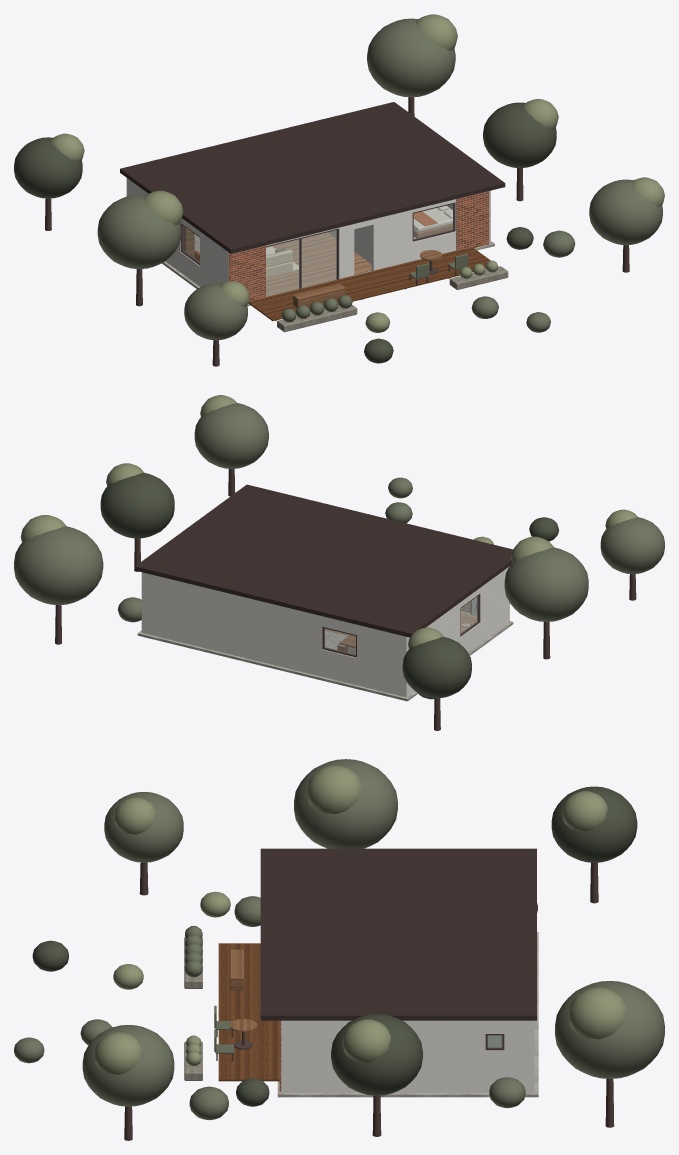
File: mosarq-casa.glb
3 views of the same model, one above another, from view 1: azimuth 30°, elevation 25°; view 2: azimuth 150°, elevation 25°; view 3: azimuth 270°, elevation 25° (orthographic). The views are drawn at different scales.
Visible parts, largest first — view 1: Laje_Cobertura, Paredes, Arvore_03, Arvore_01, Arvore_02, Arvore_06, Deck_Madeira, Arvore_04, Porta_Janela_Sala_S, Revestimentos_Fachada, Arvore_05, Pisos (+8 smaller); view 2: Laje_Cobertura, Paredes, Arvore_03, Arvore_01, Arvore_02, Arvore_06, Arvore_04, Arvore_05, Laje_Fundacao, Janela_Cozinha_N, Janela_Sala_O, Pisos (+2 smaller); view 3: Laje_Cobertura, Paredes, Arvore_03, Arvore_01, Arvore_02, Arvore_06, Deck_Madeira, Arvore_04, Arvore_05, Canteiro_Fachada, Laje_Fundacao, Arbusto_04 (+8 smaller).
Part boxes in pixels (bbox=[...]): Laje_Cobertura: bbox=[120, 102, 505, 253]; Paredes: bbox=[126, 178, 490, 286]; Arvore_03: bbox=[367, 14, 457, 116]; Arvore_01: bbox=[97, 190, 183, 306]; Arvore_02: bbox=[483, 99, 558, 201]; Arvore_06: bbox=[589, 177, 664, 272]; Deck_Madeira: bbox=[248, 247, 490, 321]; Arvore_04: bbox=[14, 133, 84, 230]; Porta_Janela_Sala_S: bbox=[266, 228, 338, 296]; Revestimentos_Fachada: bbox=[228, 191, 489, 301]; Arvore_05: bbox=[184, 281, 249, 366]; Pisos: bbox=[194, 232, 371, 296]; Laje_Cobertura: bbox=[135, 484, 512, 637]; Paredes: bbox=[141, 567, 509, 697]; Arvore_03: bbox=[14, 515, 103, 644]; Arvore_01: bbox=[504, 536, 588, 659]; Arvore_02: bbox=[100, 463, 174, 571]; Arvore_06: bbox=[194, 395, 268, 496]; Arvore_04: bbox=[402, 627, 471, 730]; Arvore_05: bbox=[600, 509, 664, 600]; Laje_Fundacao: bbox=[137, 611, 513, 701]; Janela_Cozinha_N: bbox=[322, 627, 356, 657]; Janela_Sala_O: bbox=[460, 594, 479, 636]; Pisos: bbox=[325, 612, 476, 649]; Laje_Cobertura: bbox=[260, 848, 536, 1020]; Paredes: bbox=[281, 1020, 534, 1092]; Arvore_03: bbox=[555, 981, 664, 1127]; Arvore_01: bbox=[294, 759, 397, 848]; Arvore_02: bbox=[331, 1014, 422, 1136]; Arvore_06: bbox=[82, 1025, 174, 1140]; Deck_Madeira: bbox=[218, 943, 279, 1081]; Arvore_04: bbox=[551, 786, 637, 903]; Arvore_05: bbox=[104, 792, 183, 895]; Canteiro_Fachada: bbox=[184, 925, 202, 1080]; Laje_Fundacao: bbox=[277, 932, 538, 1097]; Arbusto_04: bbox=[189, 1086, 228, 1120].
Size of what is drawn, in the model's own units: 21.7 by 5.25 by 20.96.
Materials: 25 (8 with a texture image).
